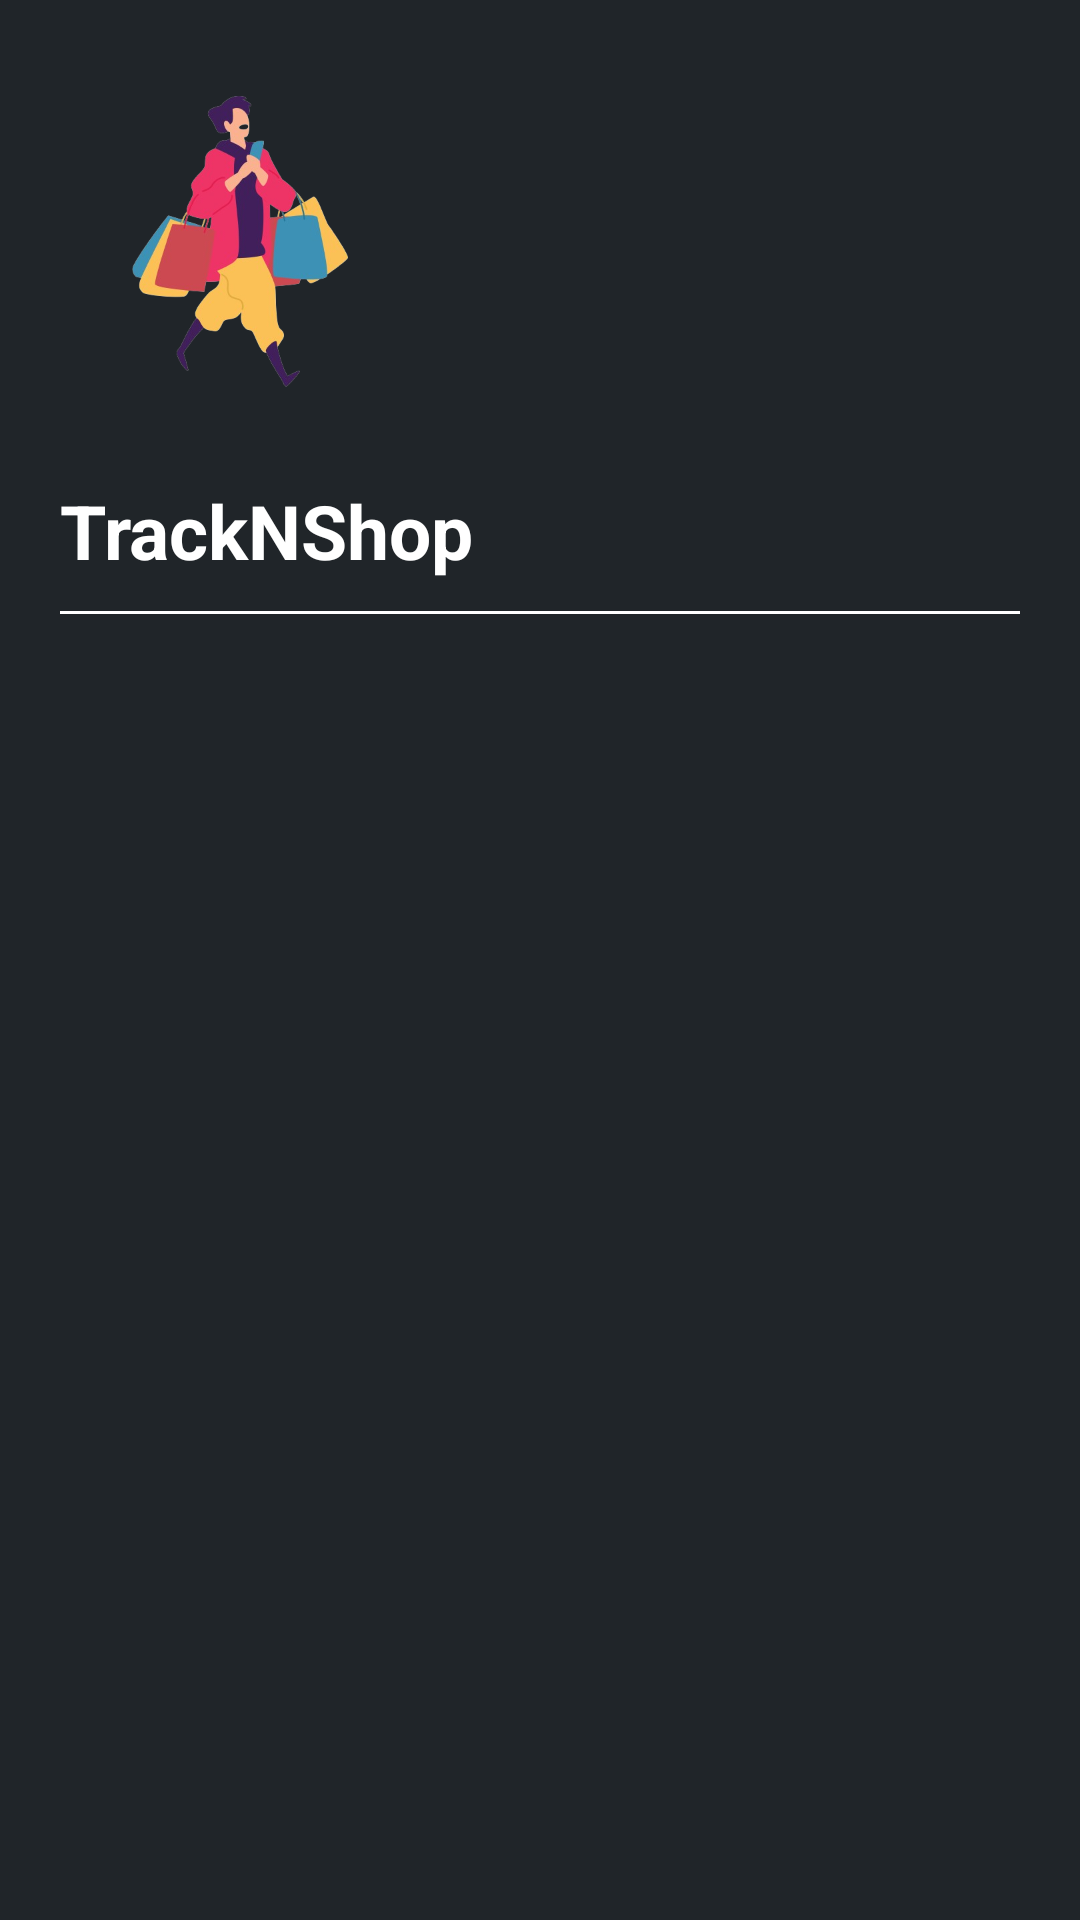

Icon bounding boxes for this 1080x1920 phone screenshot, format [x1,y1,x2,y2]:
shopping: [132,96,348,387]
